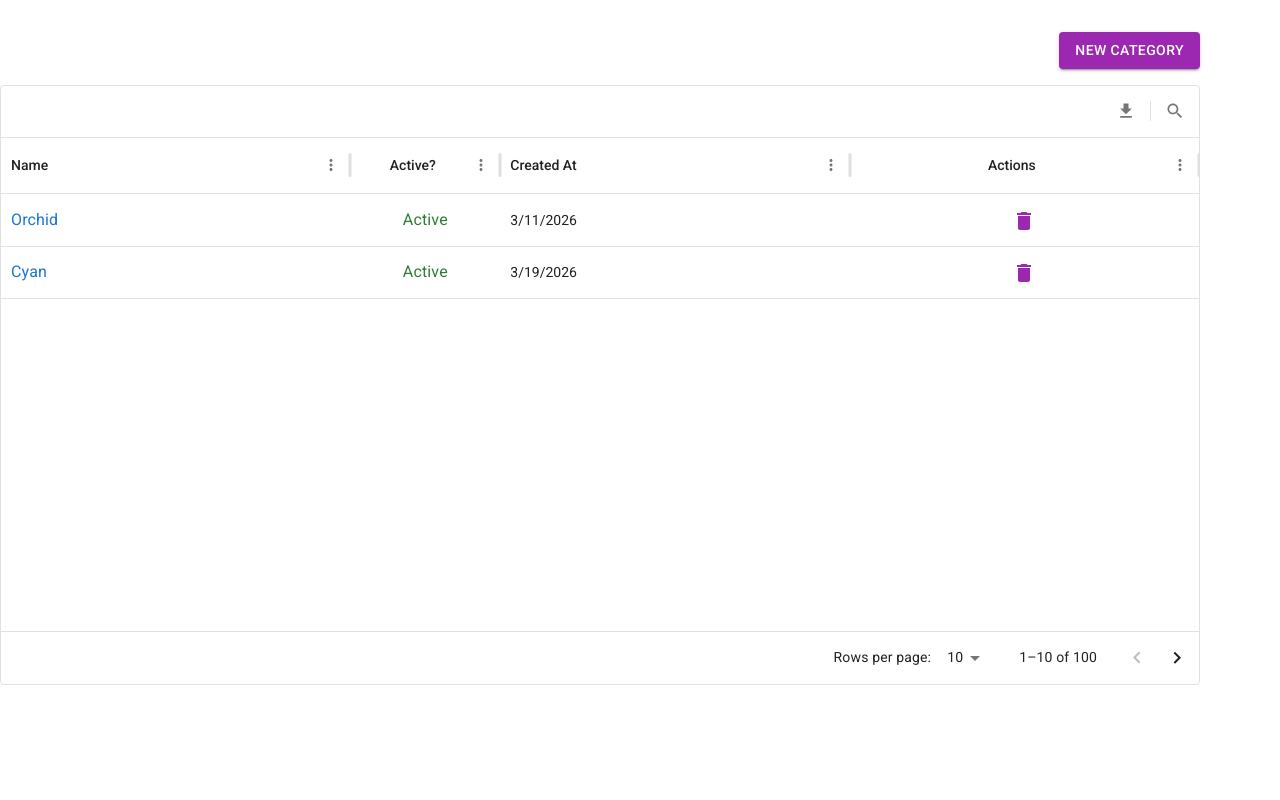
Test: CategoryList › should handle On PageChange
Check: the text "Orchid" is shown, box left=11, top=208, right=58, bottom=232
Click the button with test id "KeyboardArrowRightIcon" at (1177, 658), box left=1157, top=638, right=1197, bottom=678
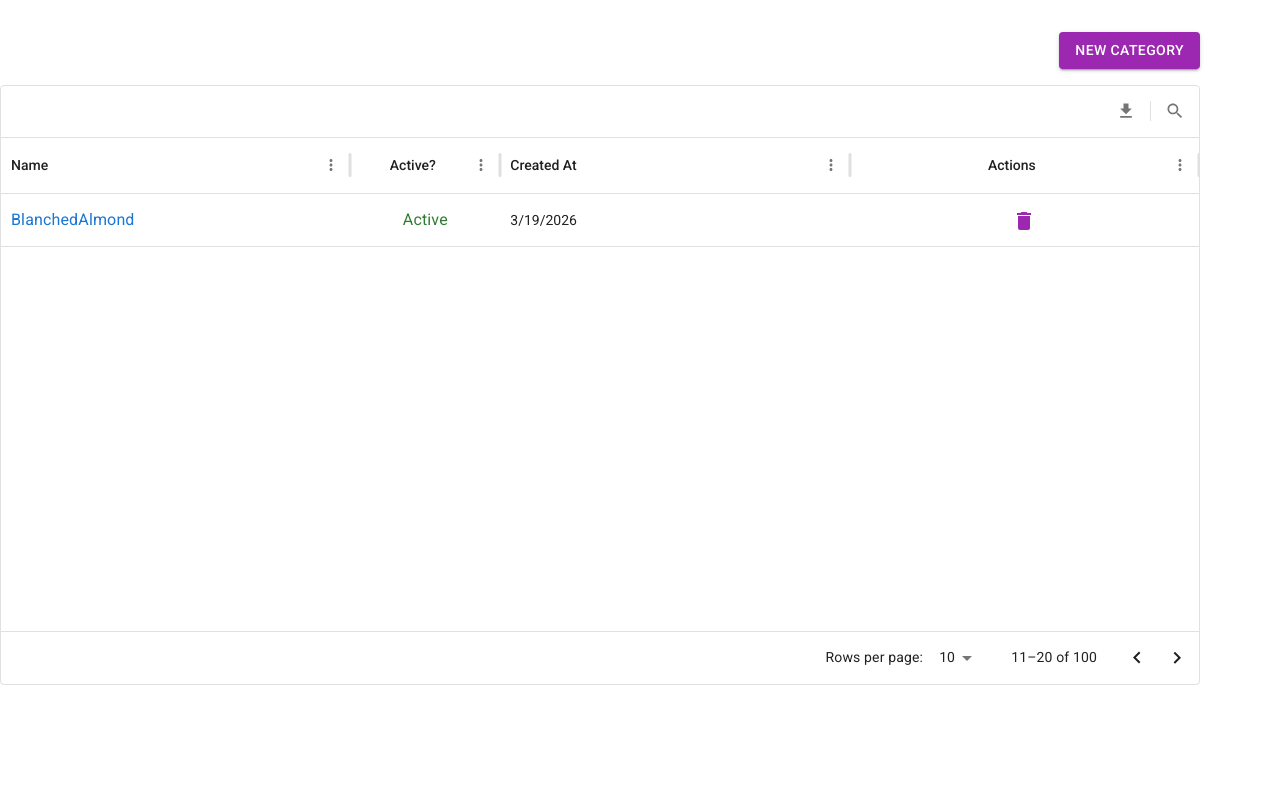
Check: the text "BlanchedAlmond" is shown, box left=11, top=208, right=134, bottom=232
